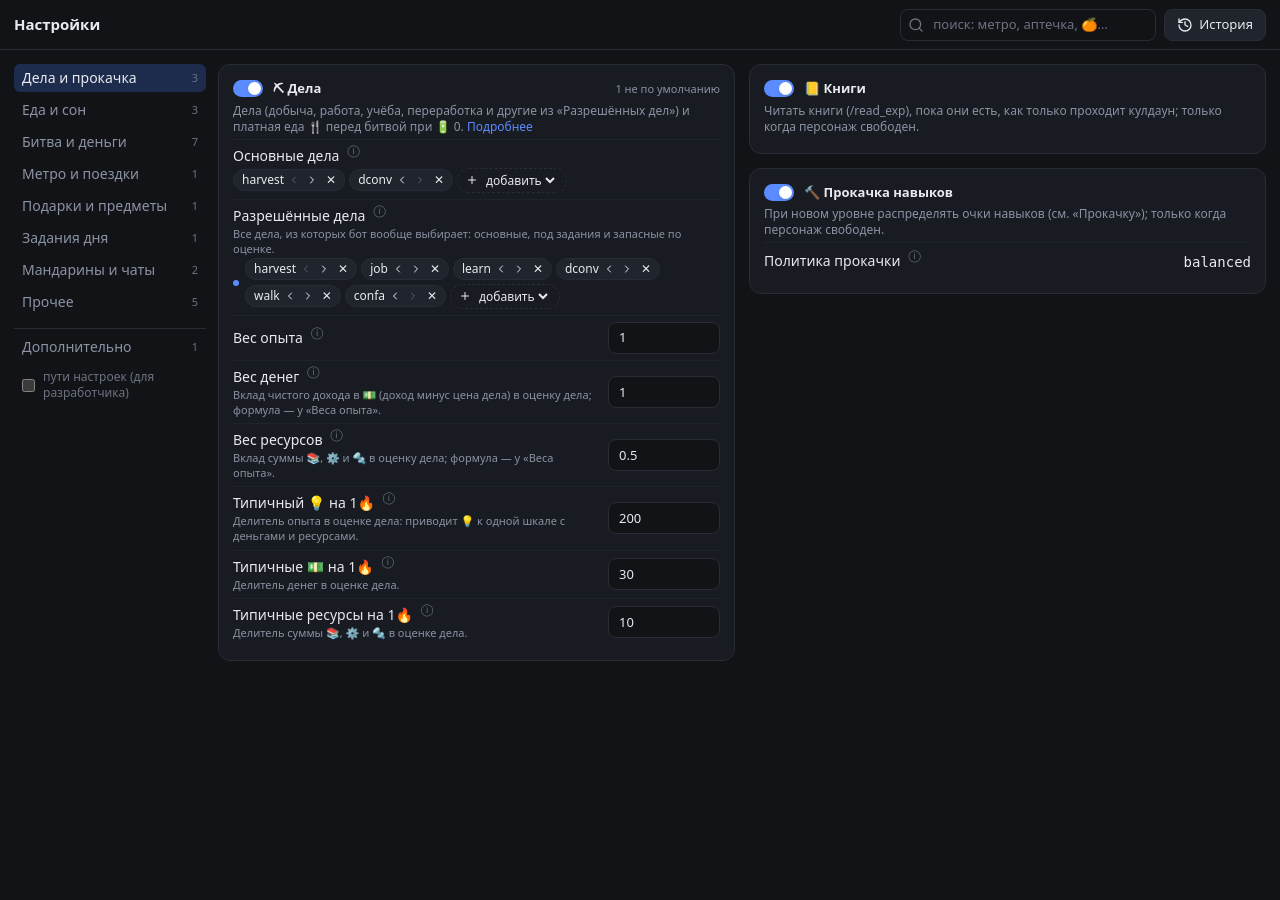
Scenario: Настройки › описание механики — первое предложение, «Подробнее» раскрывает полную справку
The image size is (1280, 900).
Click the button "Метро и поездки 1": (110,174) left=14, top=160, right=206, bottom=188
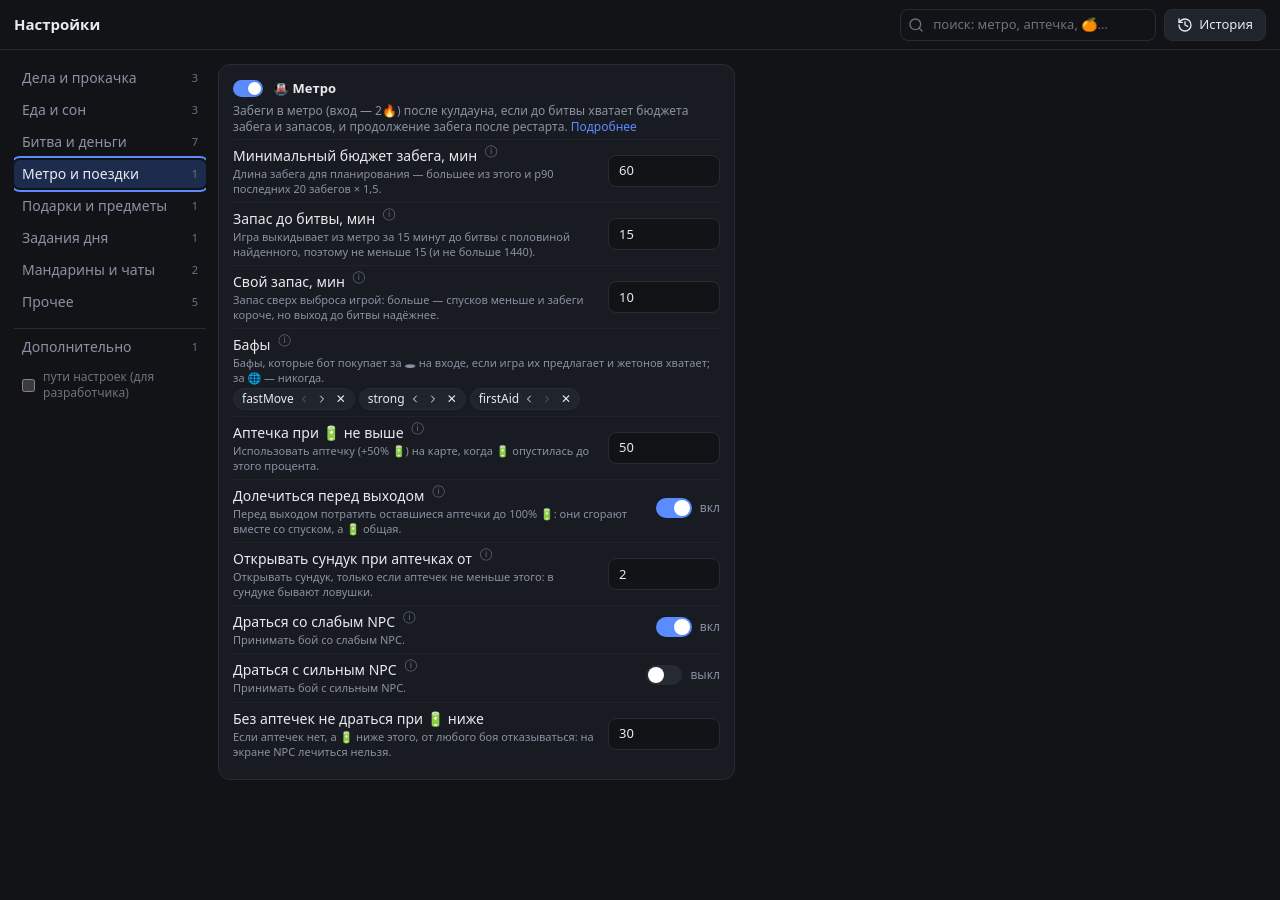
Expected: the element "Метро" does not show "Включённое метро держит 2🔥", left=218, top=64, right=735, bottom=780
Result: the element "Метро" shows "Забеги в метро (вход — 2🔥) после кулдауна" at left=233, top=102, right=692, bottom=134
Click the button "Подробнее": (604,126) left=571, top=118, right=637, bottom=134
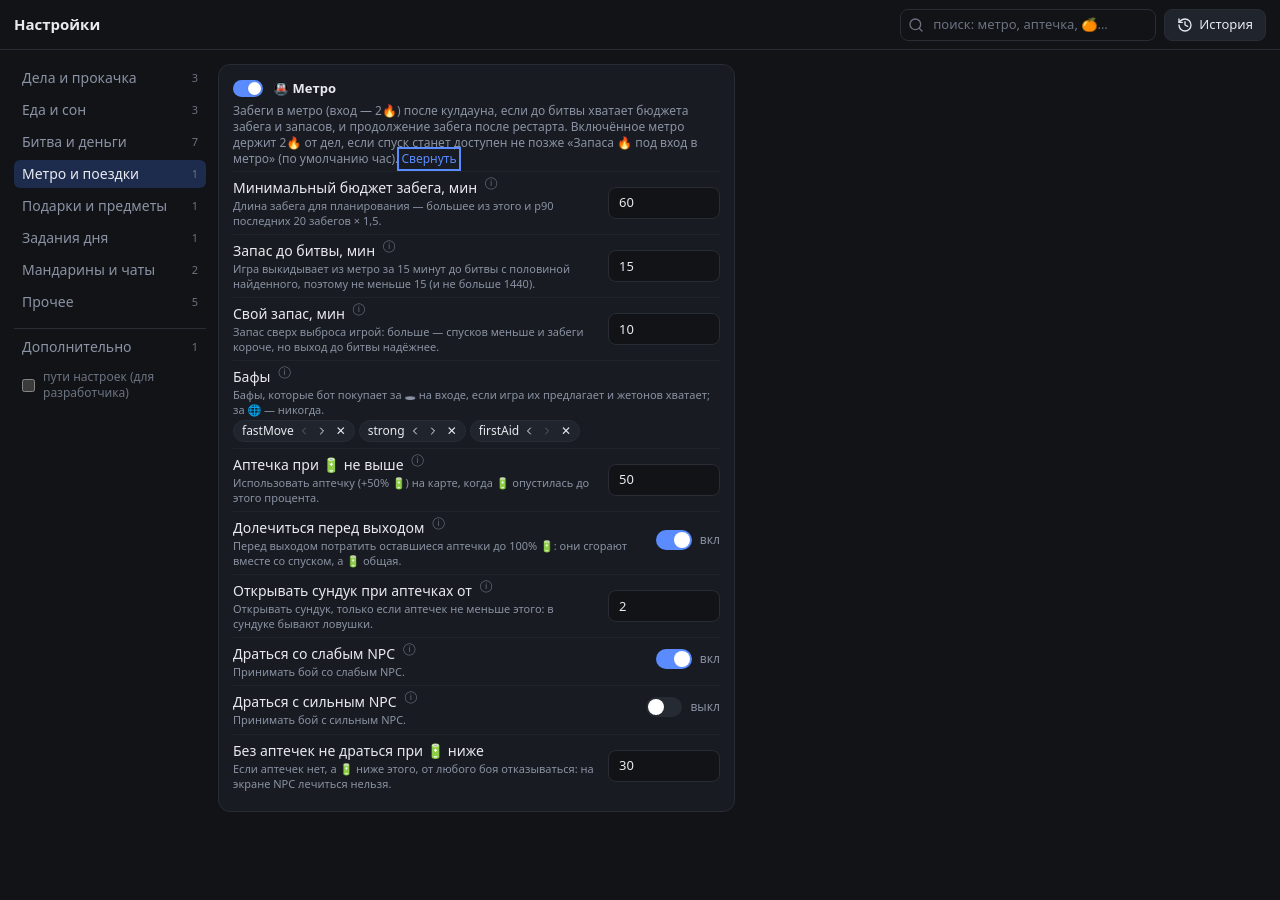
Result: the button named "Подробнее" is expanded at left=401, top=150, right=457, bottom=166
